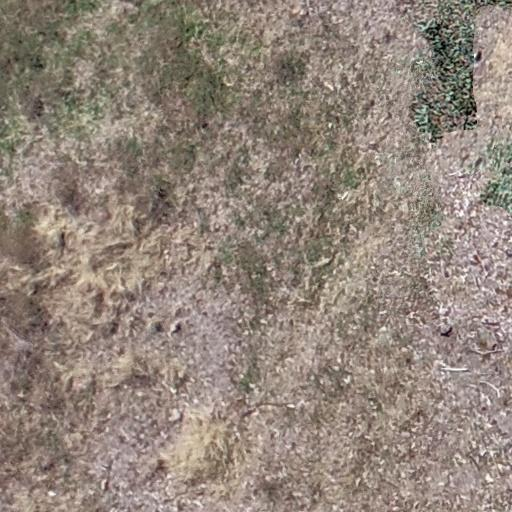stone: (166, 408, 186, 427), (434, 321, 456, 338), (438, 304, 452, 318), (484, 473, 495, 485), (47, 490, 57, 498), (378, 325, 388, 333), (169, 386, 177, 395), (286, 403, 296, 409)
